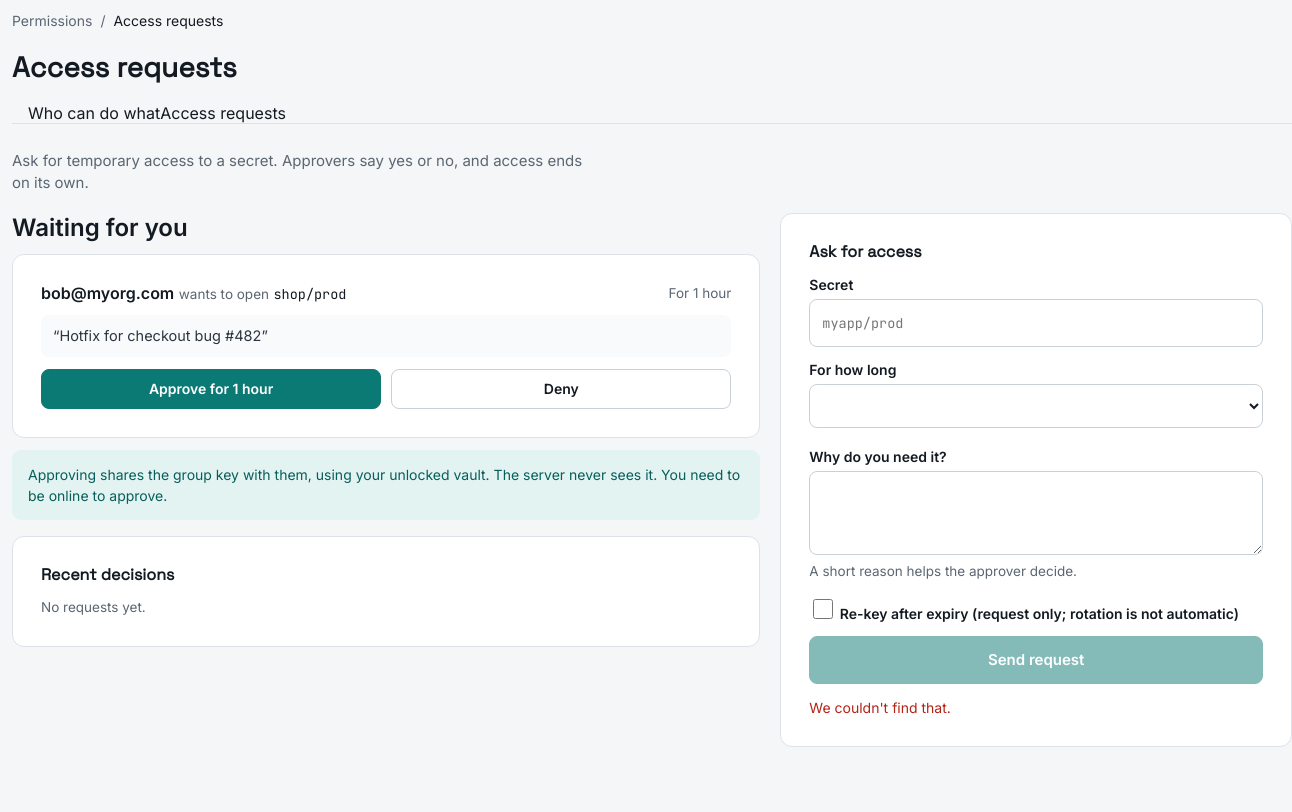
it: Access requests › asks to unlock before approving, and sends nothing
Click the button "Approve for 1 hour" at [211, 389], box [41, 369, 381, 409]
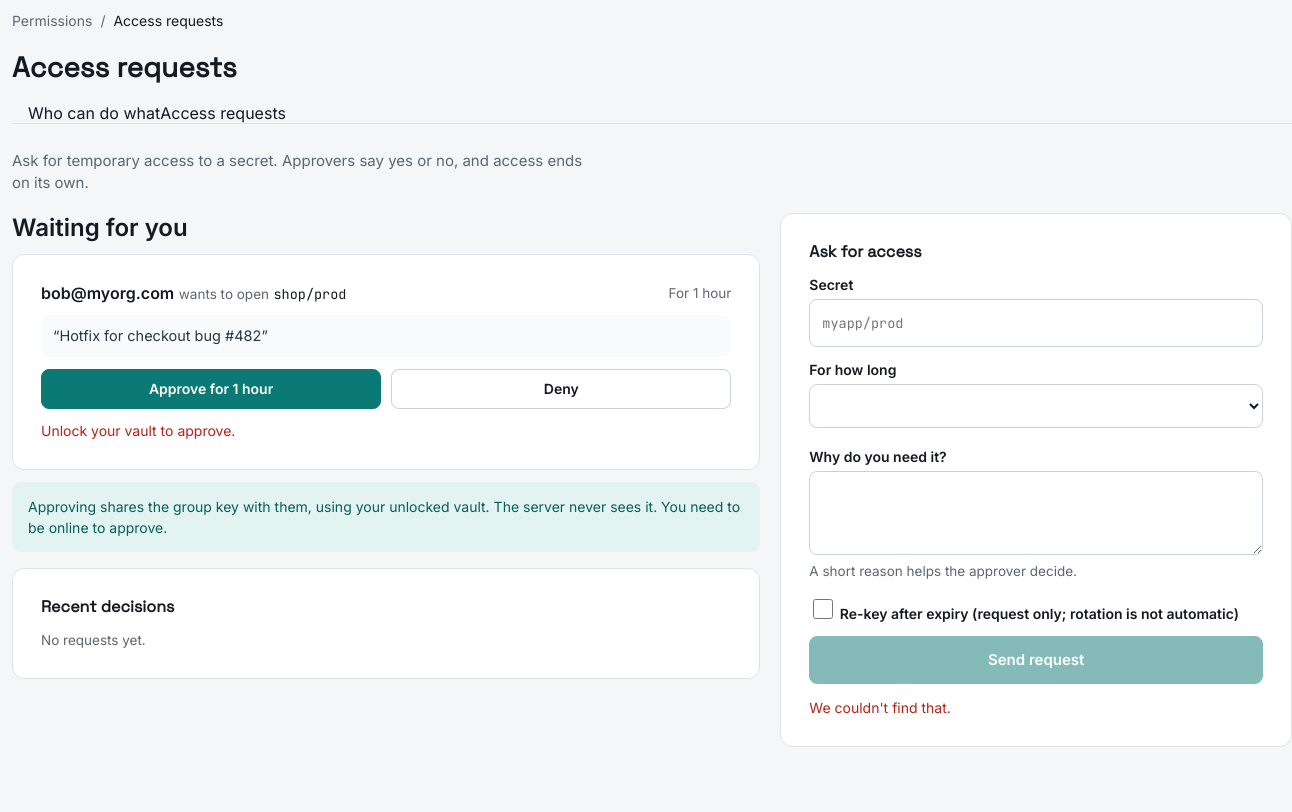
Now the text "Unlock your vault to approve." is shown, box [41, 422, 235, 439]
